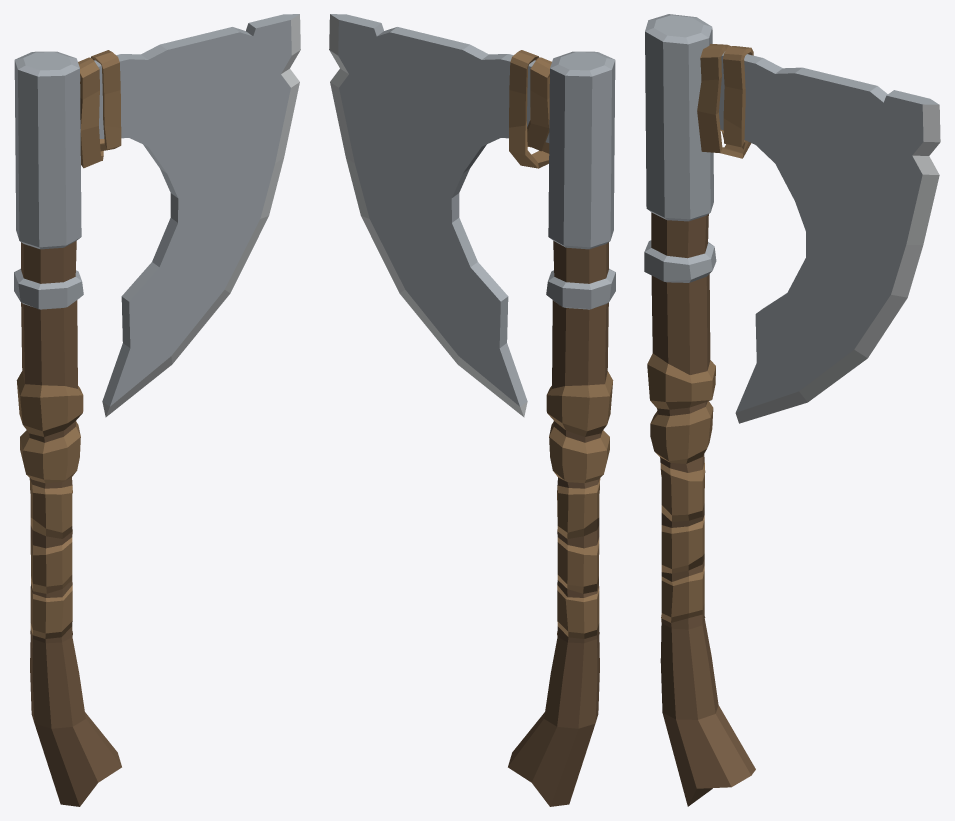
Rendered from axe-fitted.glb.
3 views of the same model, side by side, from view 1: azimuth 30°, elevation 25°; view 2: azimuth 150°, elevation 25°; view 3: azimuth 330°, elevation 25° (orthographic). The views are drawn at different scales.
Visible parts, largest first — view 1: Weapon__Steel, Weapon__DarkWood, Weapon__LightWood, Weapon__LightSteel; view 2: Weapon__Steel, Weapon__DarkWood, Weapon__LightWood, Weapon__LightSteel; view 3: Weapon__Steel, Weapon__DarkWood, Weapon__LightWood, Weapon__LightSteel.
Boxes of the visible parts, <box> form: Weapon__Steel: <box>14,14,299,406</box>; Weapon__DarkWood: <box>21,241,121,806</box>; Weapon__LightWood: <box>16,50,121,638</box>; Weapon__LightSteel: <box>102,14,300,417</box>; Weapon__Steel: <box>330,14,615,406</box>; Weapon__DarkWood: <box>508,241,608,806</box>; Weapon__LightWood: <box>509,50,613,638</box>; Weapon__LightSteel: <box>329,14,527,417</box>; Weapon__Steel: <box>644,14,939,412</box>; Weapon__DarkWood: <box>651,212,755,806</box>; Weapon__LightWood: <box>647,43,753,622</box>; Weapon__LightSteel: <box>735,104,940,423</box>.
Size of the model in its own units: 0.495 by 1.25 by 0.105.
